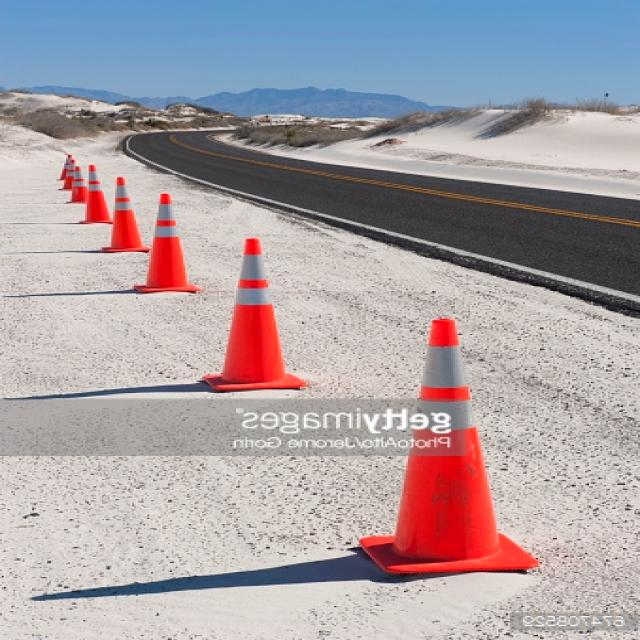cone: (359, 319, 539, 573), (202, 238, 306, 390), (133, 194, 197, 292), (102, 177, 148, 253), (79, 165, 113, 224), (64, 166, 88, 204)
